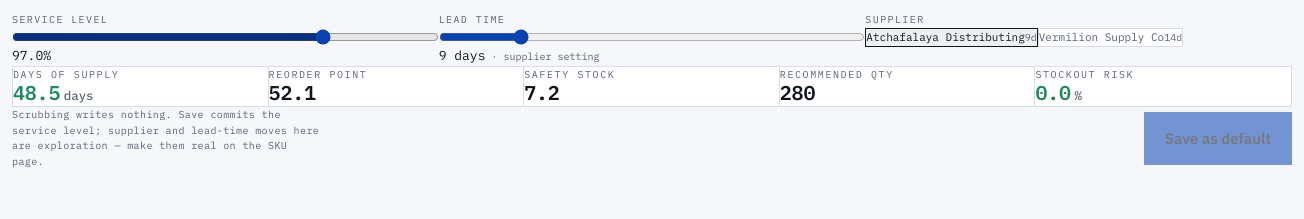
Scenario: Policy what-if bench (memorable element) › swapping the supplier lever re-aims the lead time (9d → 14d empirical)
Step 1. Click the button "Vermilion Supply Co 14d" → [1110, 37], box [1038, 28, 1183, 46]
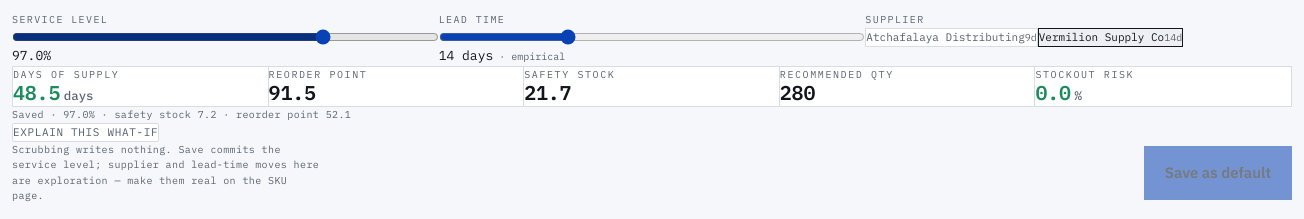
Expected: the text "14 days · empirical" is shown, [439, 46, 565, 64]
Expected: the text "· empirical" is shown, [493, 50, 565, 62]
